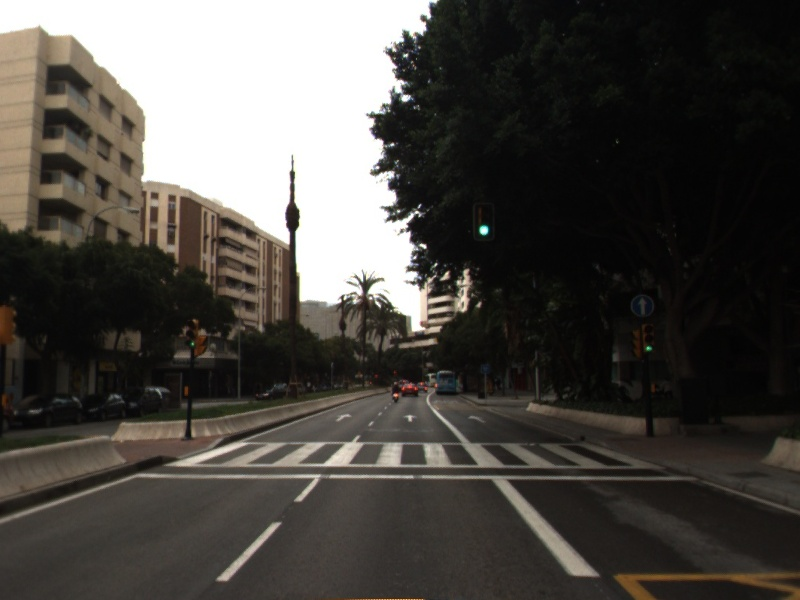STRAIGHT: (465, 413, 488, 425), (332, 411, 354, 423), (400, 412, 420, 424)
